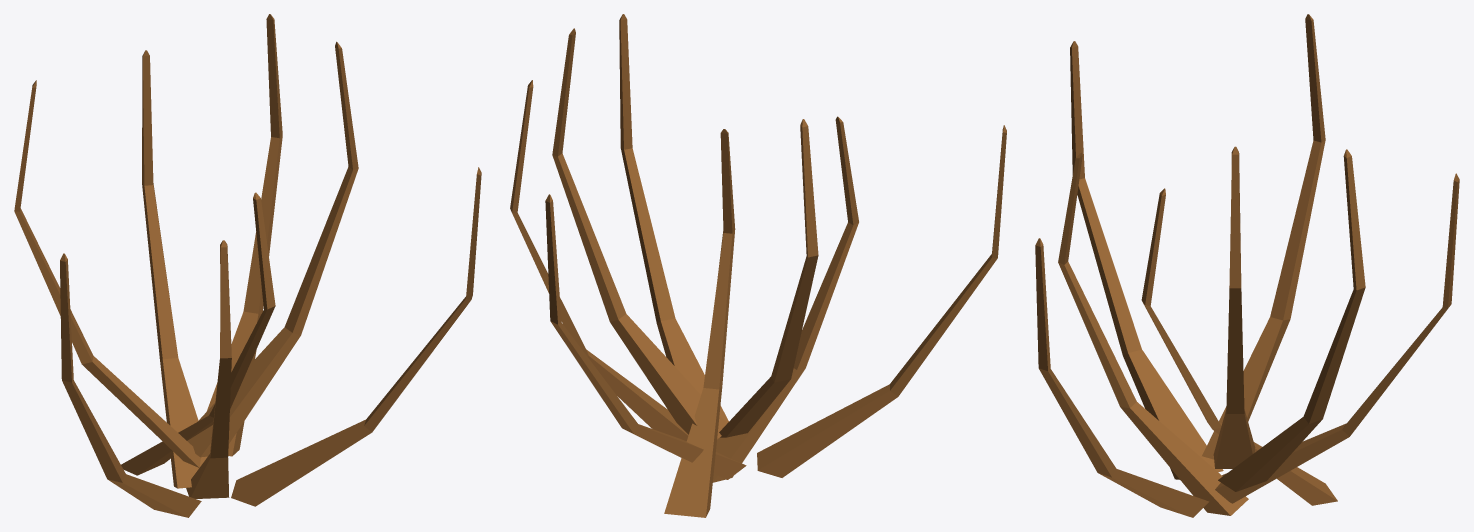
File: Thorns_06.fbx
The picture shows the model from 3 angles, left to right: view 1: azimuth 30°, elevation 25°; view 2: azimuth 150°, elevation 25°; view 3: azimuth 270°, elevation 25°; orthographic projection. The views are drawn at different scales.
Parts seen in each view (by area): view 1: Thorns_06; view 2: Thorns_06; view 3: Thorns_06.
Part boxes in pixels (x1,y1,x2,y2): Thorns_06: (14,14,481,517); Thorns_06: (510,14,1006,517); Thorns_06: (1035,14,1459,517).
Size of the model in its own units: 74.74 by 73.44 by 66.22.
